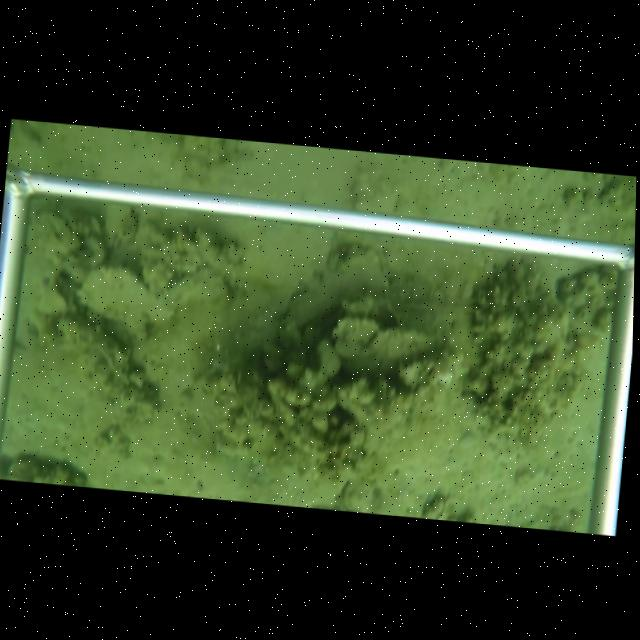Oyster-Indeterminate: (75, 264, 177, 323)
